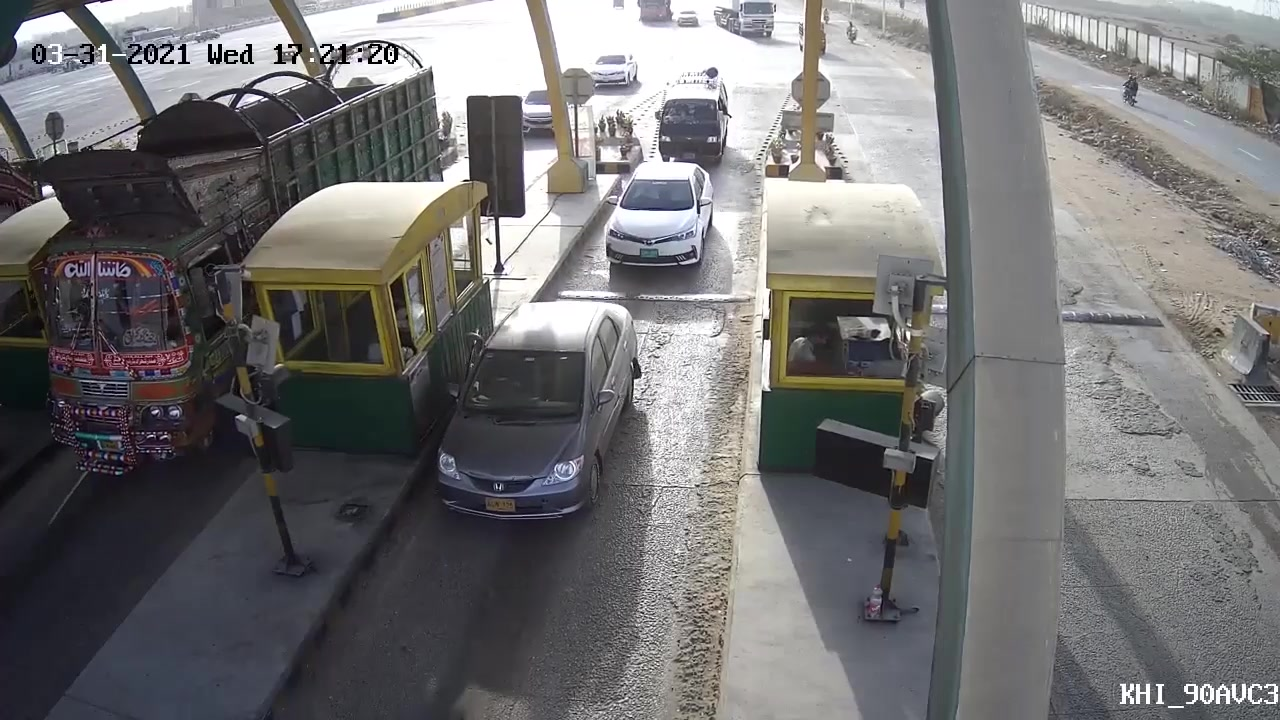F1: (395, 294, 656, 540)
